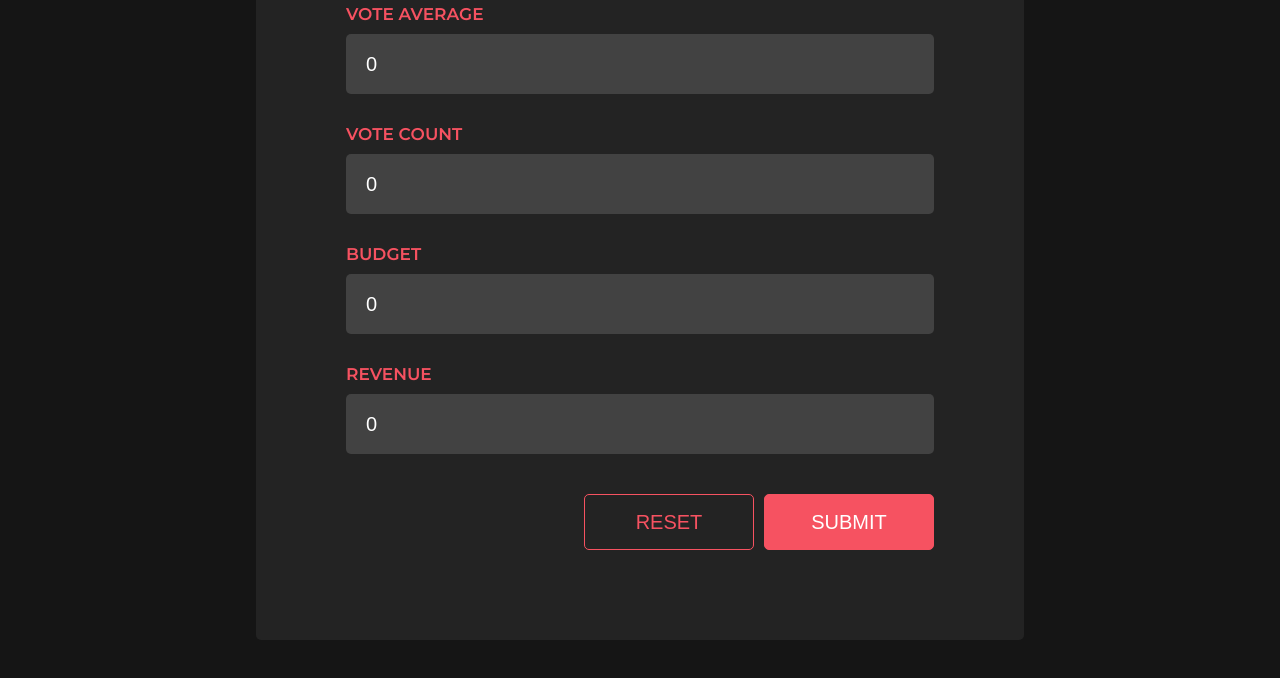
it: Modal › validate inputs correctly
(page scrolled)
Click the button "Submit": (849, 522) [764,494,934,550]
(page scrolled)
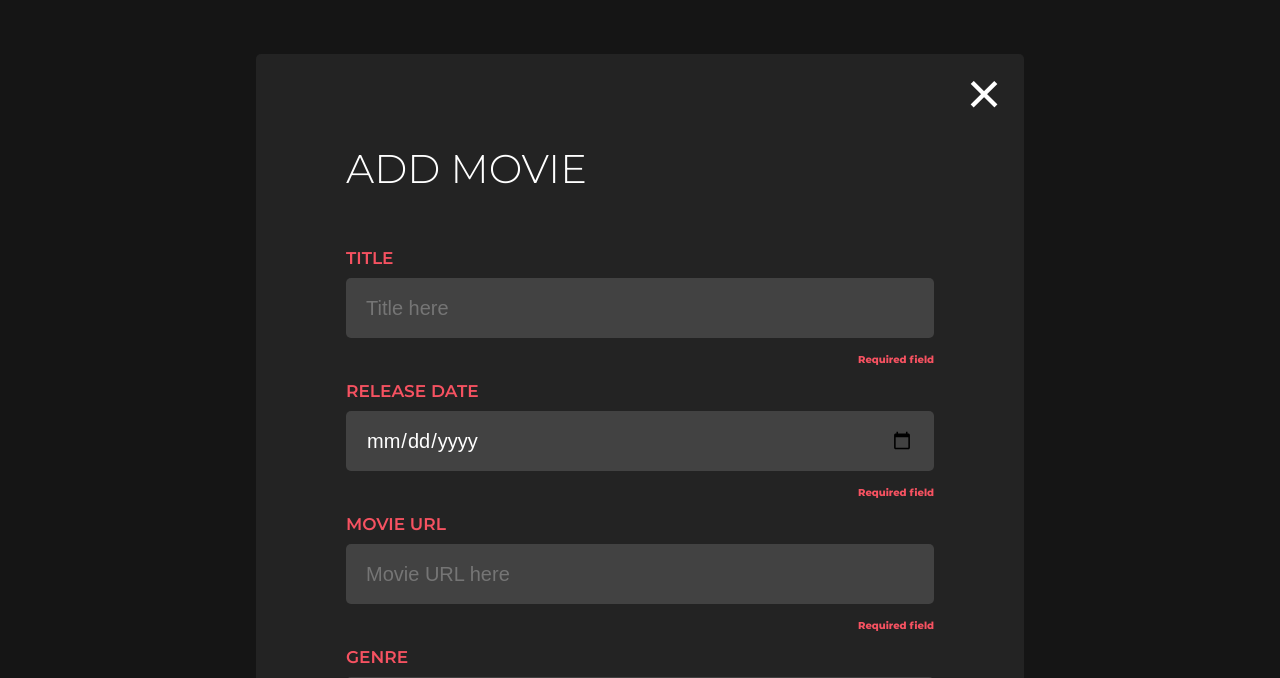
Expected: the 1st text "Required field" is shown, [858,353,934,366]
